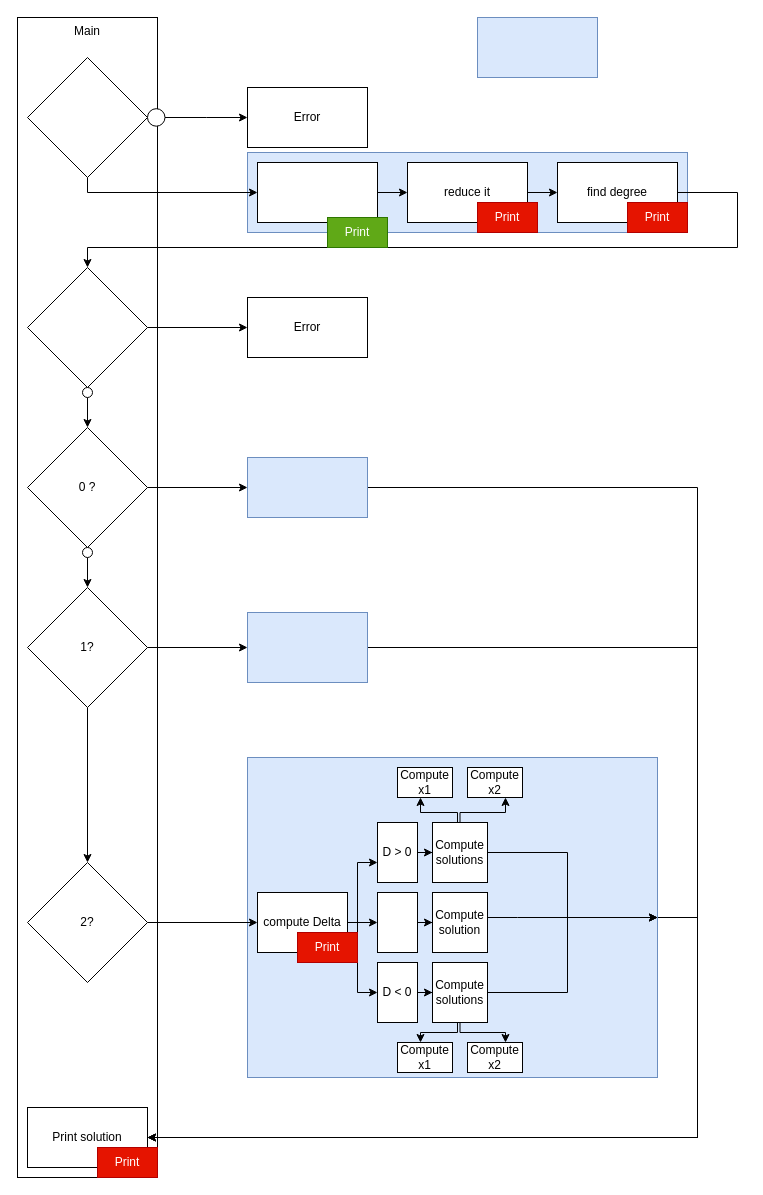
The diagram is 763 pixels wide and 1195 high, and some of its shapes have lost their labels. Each missing label, with the centre of its shape:
"Compute solution for 0° (all reals or none)" belongs at point (307, 487).
"Compute solution for 1° (one real, just move the values to the other side)" belongs at point (307, 647).
"D = 0" belongs at point (397, 922).
"more than 2 ?" belongs at point (87, 327).
"Parse the arg to store it in a more convenient way" belongs at point (317, 192).
"Use cases" belongs at point (537, 47).
"valid arg nb ?" belongs at point (87, 117).
